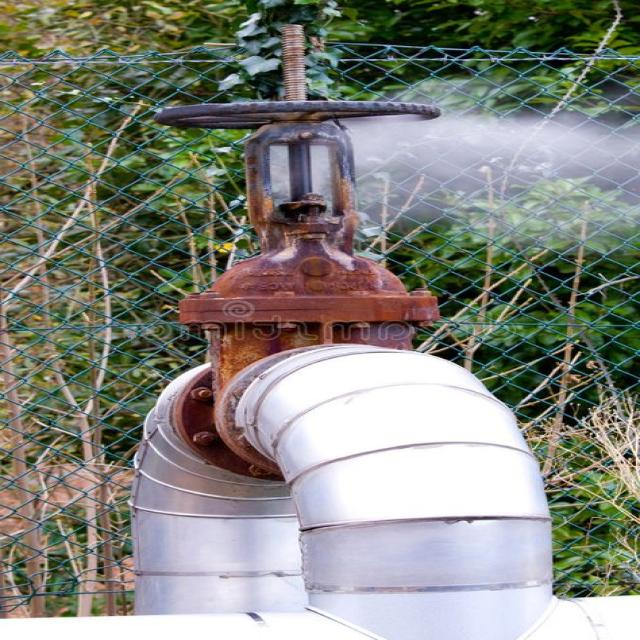Wheel Handle Valve Threaded: (160, 99, 438, 239)
